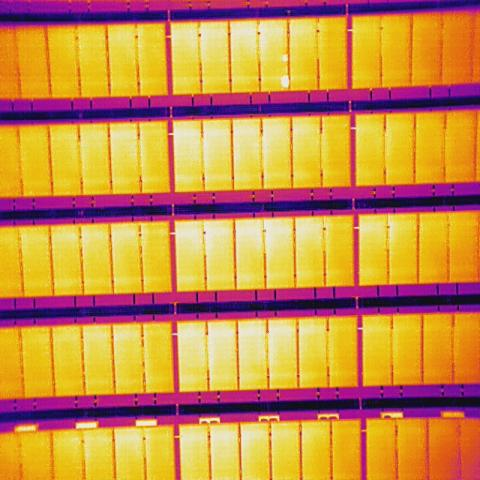fault: (280, 74, 290, 88), (281, 53, 289, 63)
